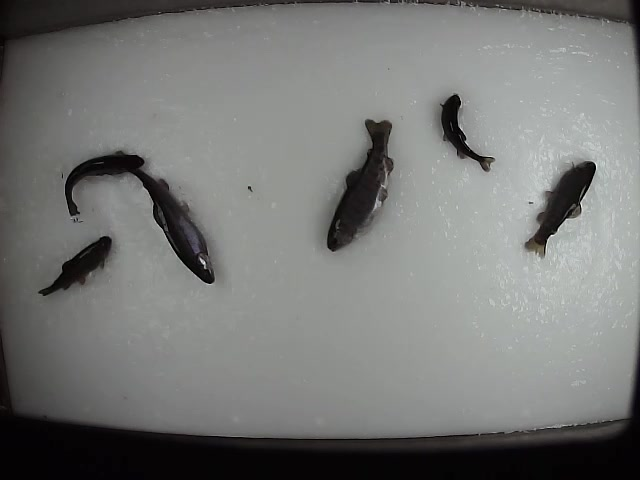fish: (113, 149, 216, 287), (325, 113, 396, 252), (519, 158, 597, 259), (63, 151, 148, 219), (437, 88, 497, 171), (37, 231, 113, 296)
